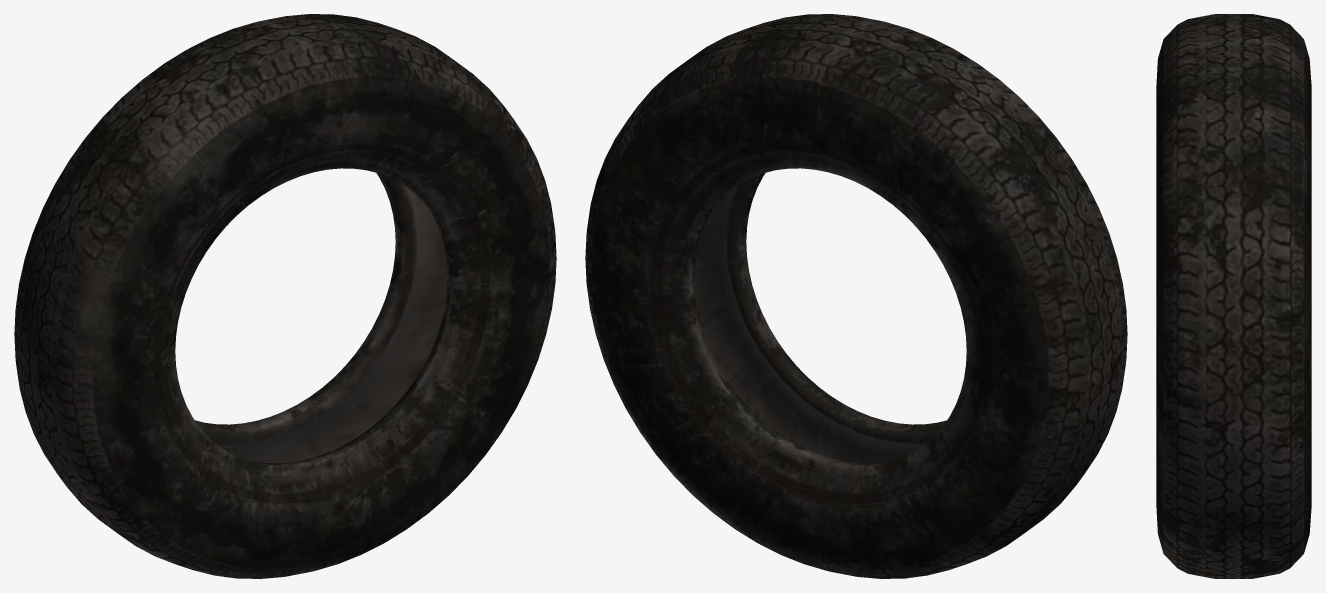
Rendered from old_tyre.glb.
The picture shows the model from 3 angles, left to right: view 1: azimuth 30°, elevation 25°; view 2: azimuth 150°, elevation 25°; view 3: azimuth 270°, elevation 25°; orthographic projection. The views are drawn at different scales.
Visible parts, largest first — view 1: old_tyre; view 2: old_tyre; view 3: old_tyre.
Boxes of the visible parts, x1,y1,x2,y2 form: old_tyre: (14,14,556,578); old_tyre: (585,14,1127,578); old_tyre: (1156,14,1311,578).
Size of the model in its own units: 0.6 by 0.6 by 0.165.
1 material, 1 textured.
